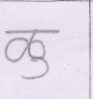u_matra: (23, 59, 51, 80)
